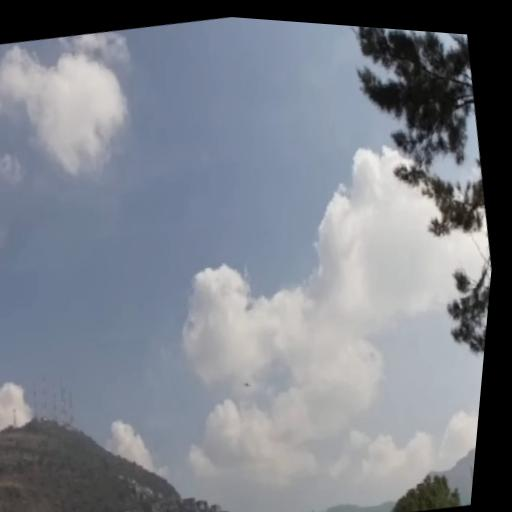drones: (241, 377, 253, 391)
